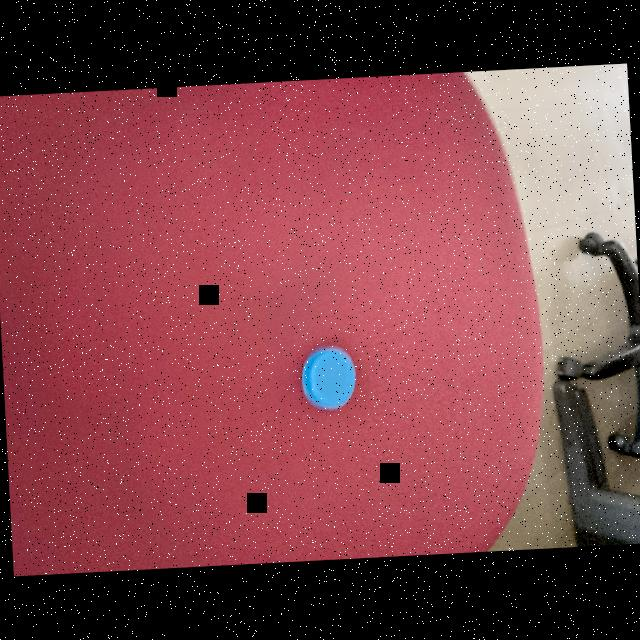plastic_bottle_cap: (296, 339, 364, 416)
